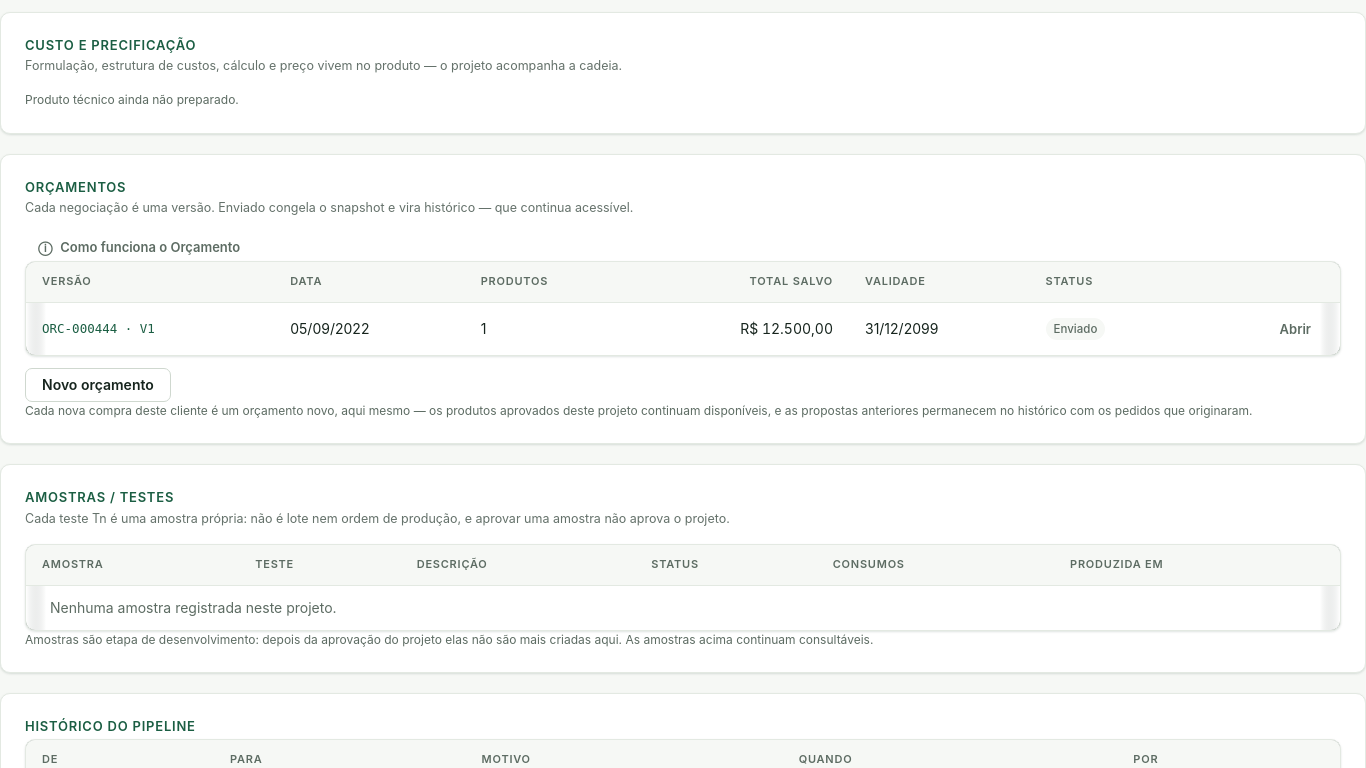
Test case: Novo orçamento — do Projeto para a página da versão › sem rascunho: cria UMA vez e abre a página da versão nova, editável
(page scrolled)
Click the button "Novo orçamento".
click(98, 385)  # box [25,368,171,402]
(page scrolled)
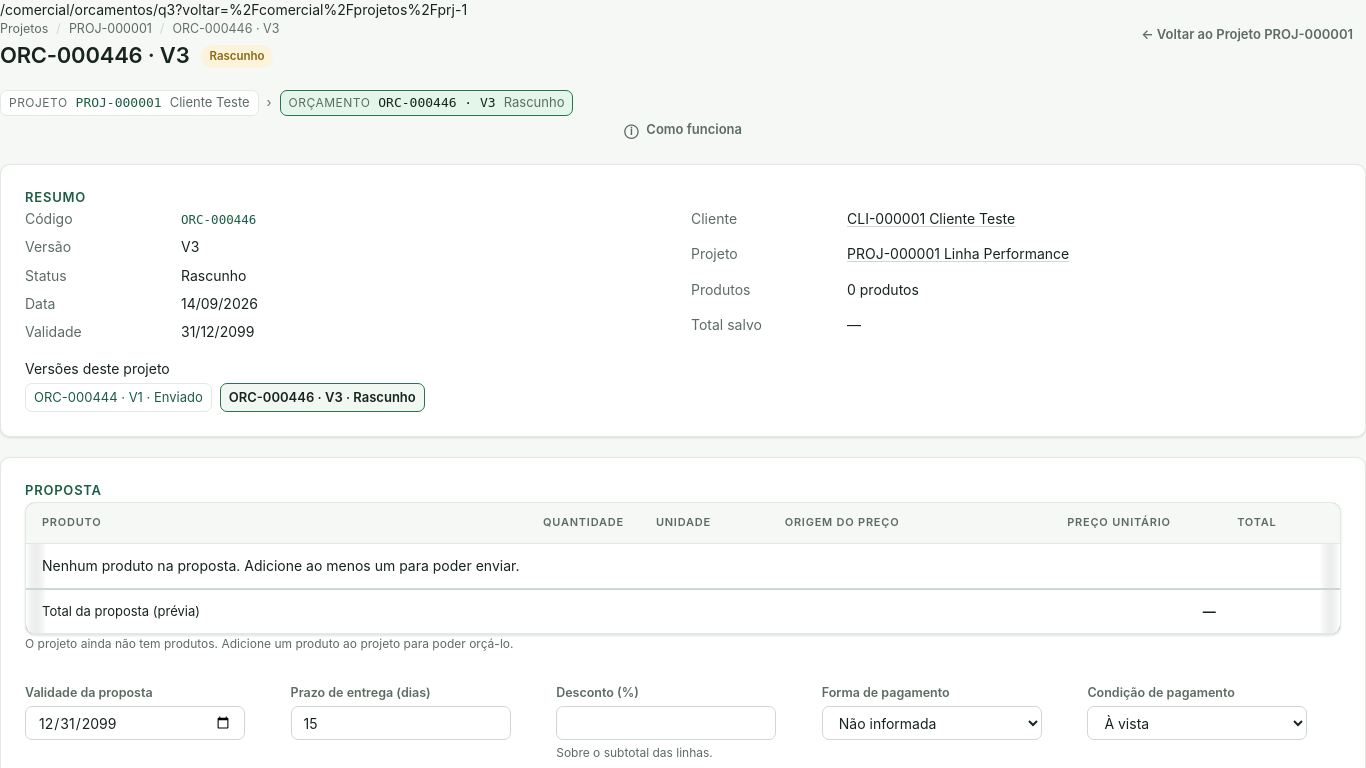
expect the heading "ORC-000446 · V3" is shown: met, box [0,42,189,70]
expect the date field labelled "Validade da proposta" is shown: met, box [25,706,245,740]
